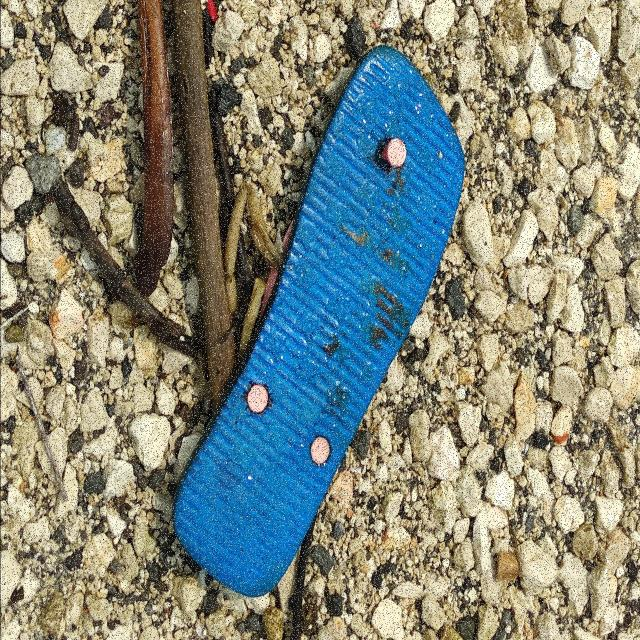rubber_waste: (174, 47, 467, 599)
